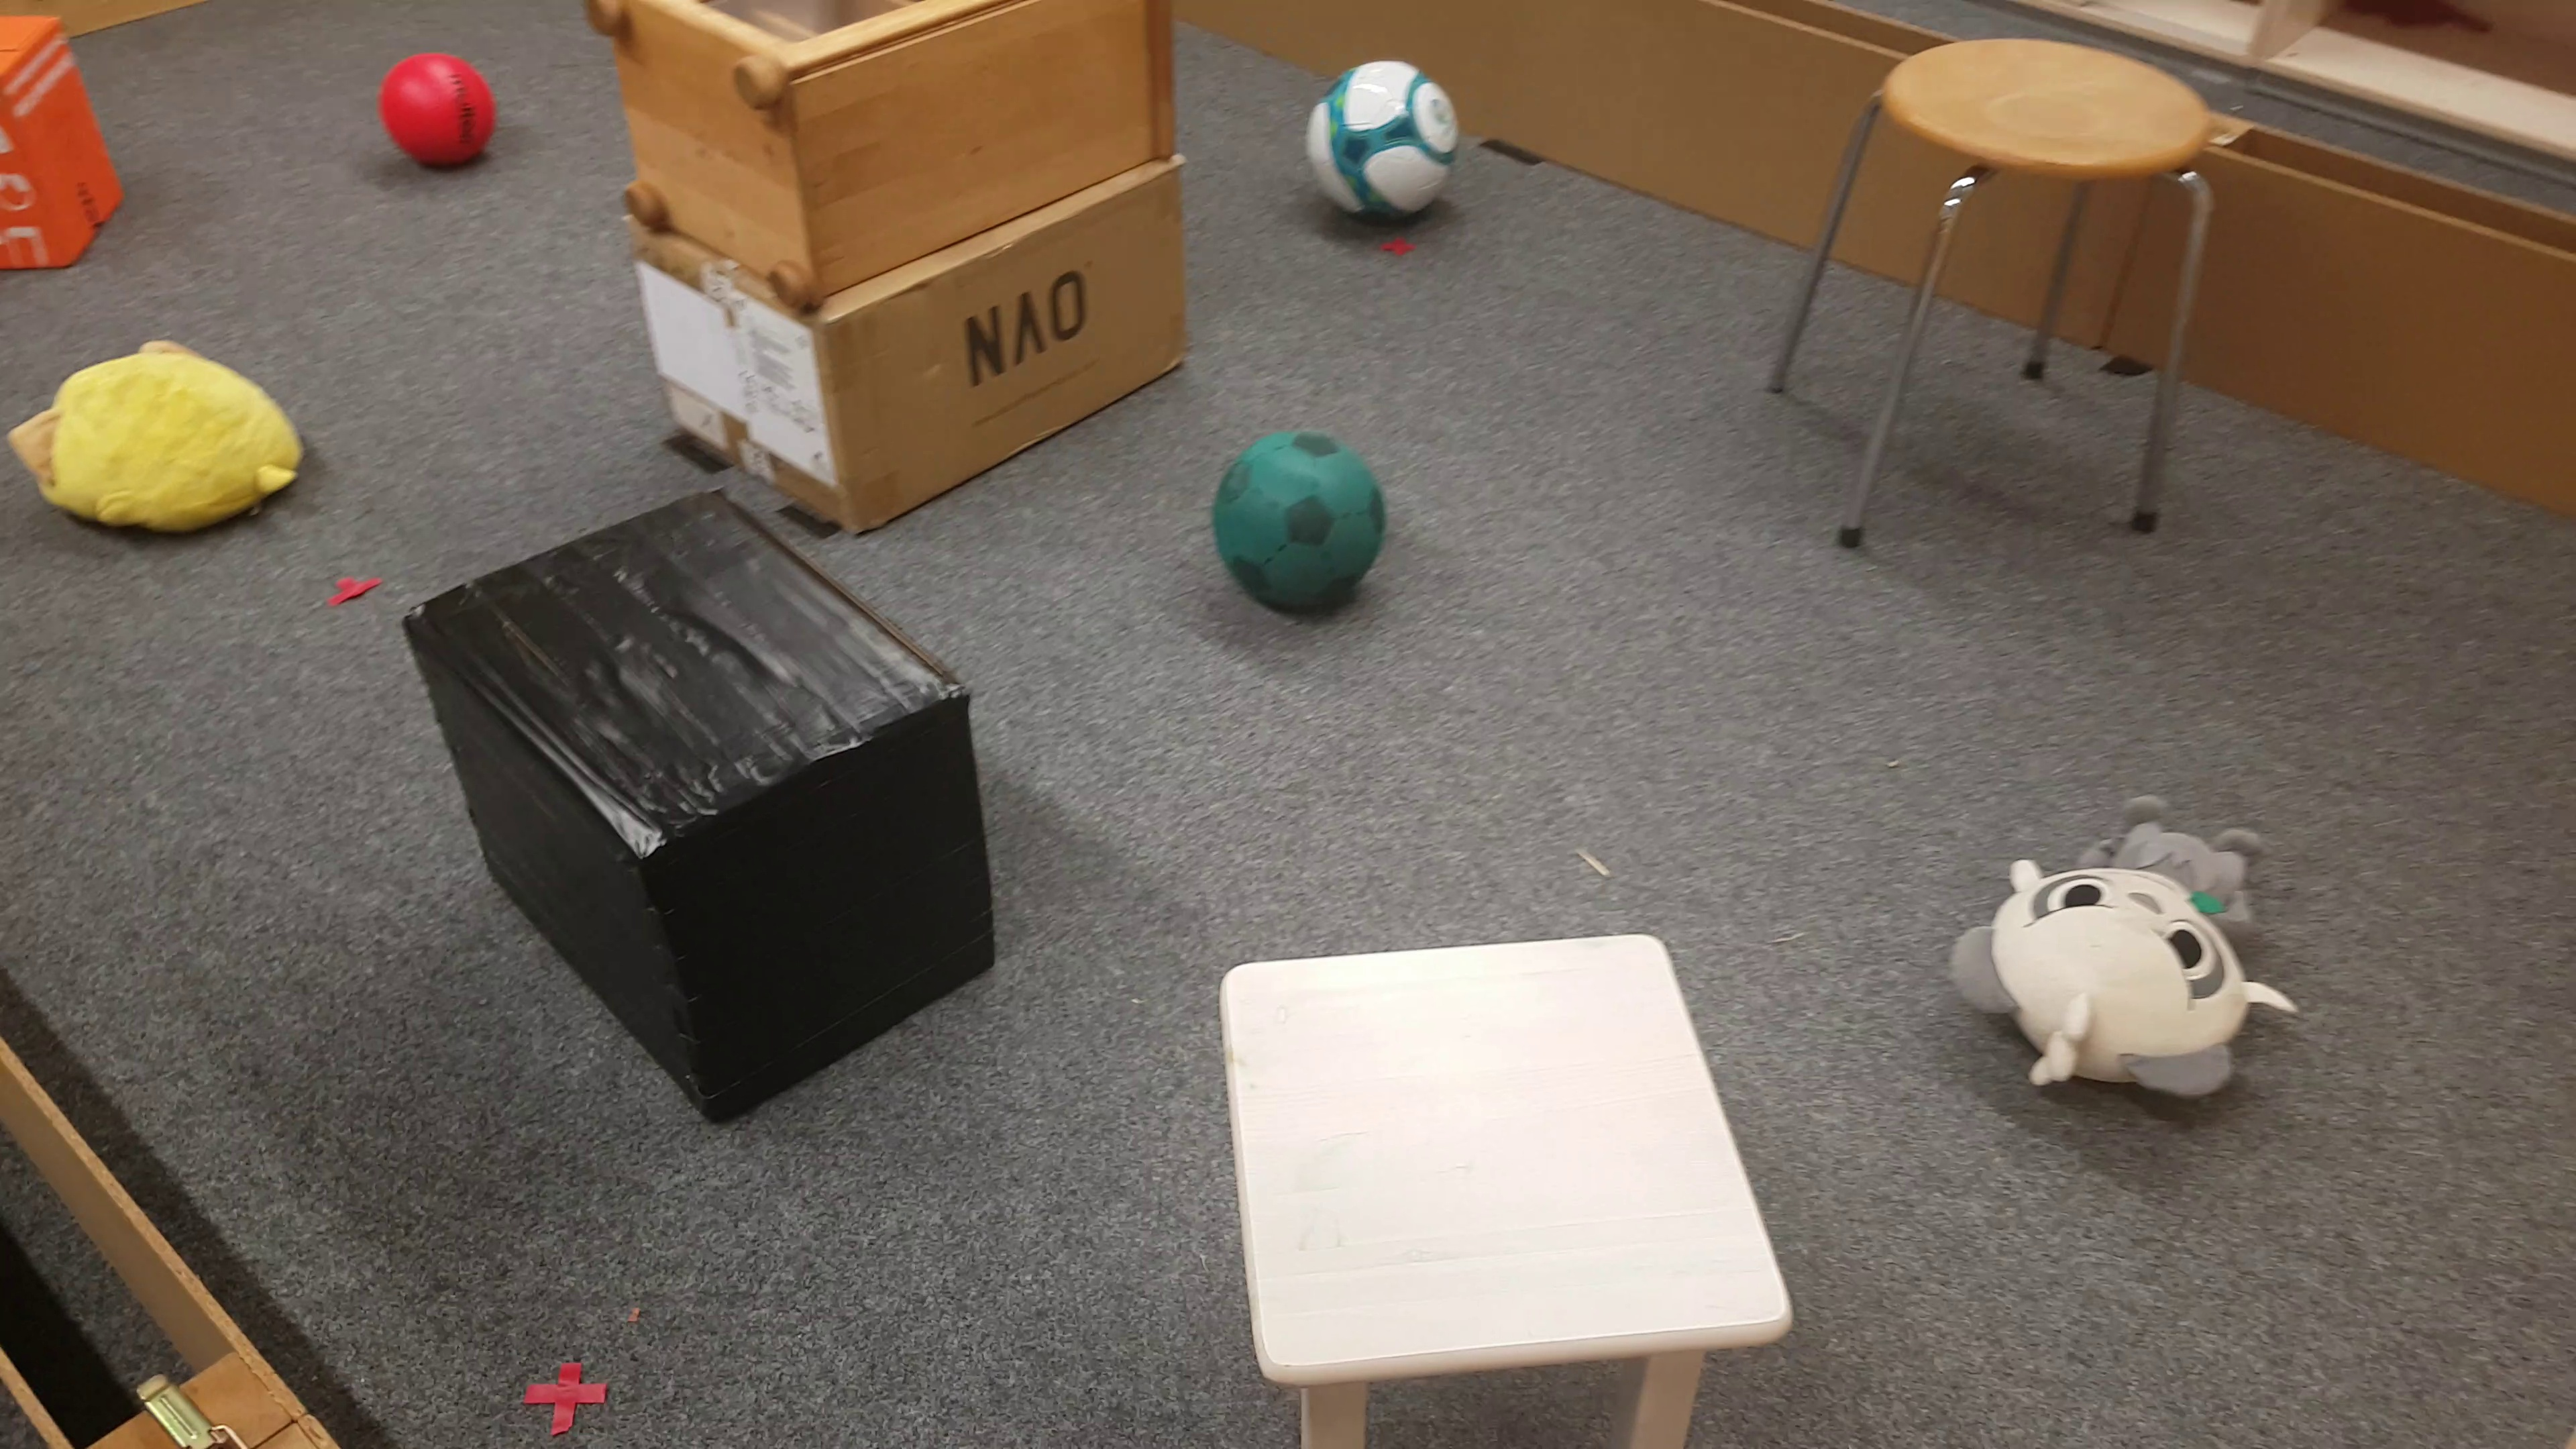grasp: (1951, 791, 2289, 1118), (5, 329, 303, 543)
kick: (1215, 423, 1382, 630), (1309, 51, 1461, 234), (375, 48, 499, 177)
push: (405, 488, 1005, 1134), (0, 19, 126, 283)
